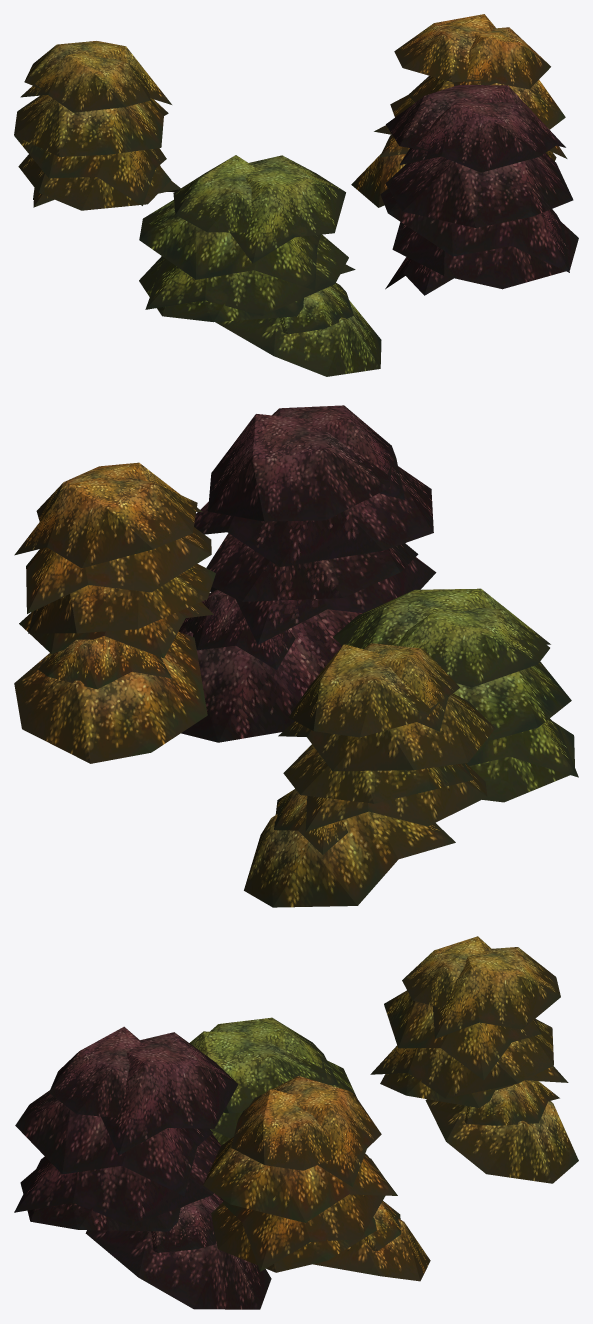
Rendered from plants_tall_trees.fbx.
3 renders of one model, top to bottom at view 1: azimuth 30°, elevation 25°; view 2: azimuth 150°, elevation 25°; view 3: azimuth 270°, elevation 25°, orthographic. The views are drawn at different scales.
Parts seen in each view (by area): view 1: obj6.001; view 2: obj6.001; view 3: obj6.001.
Part boxes in pixels (x1,y1,x2,y2): obj6.001: (14,14,578,376); obj6.001: (14,405,578,907); obj6.001: (14,936,578,1309).
Size of the model in its own units: 14.33 by 7.75 by 14.91.
